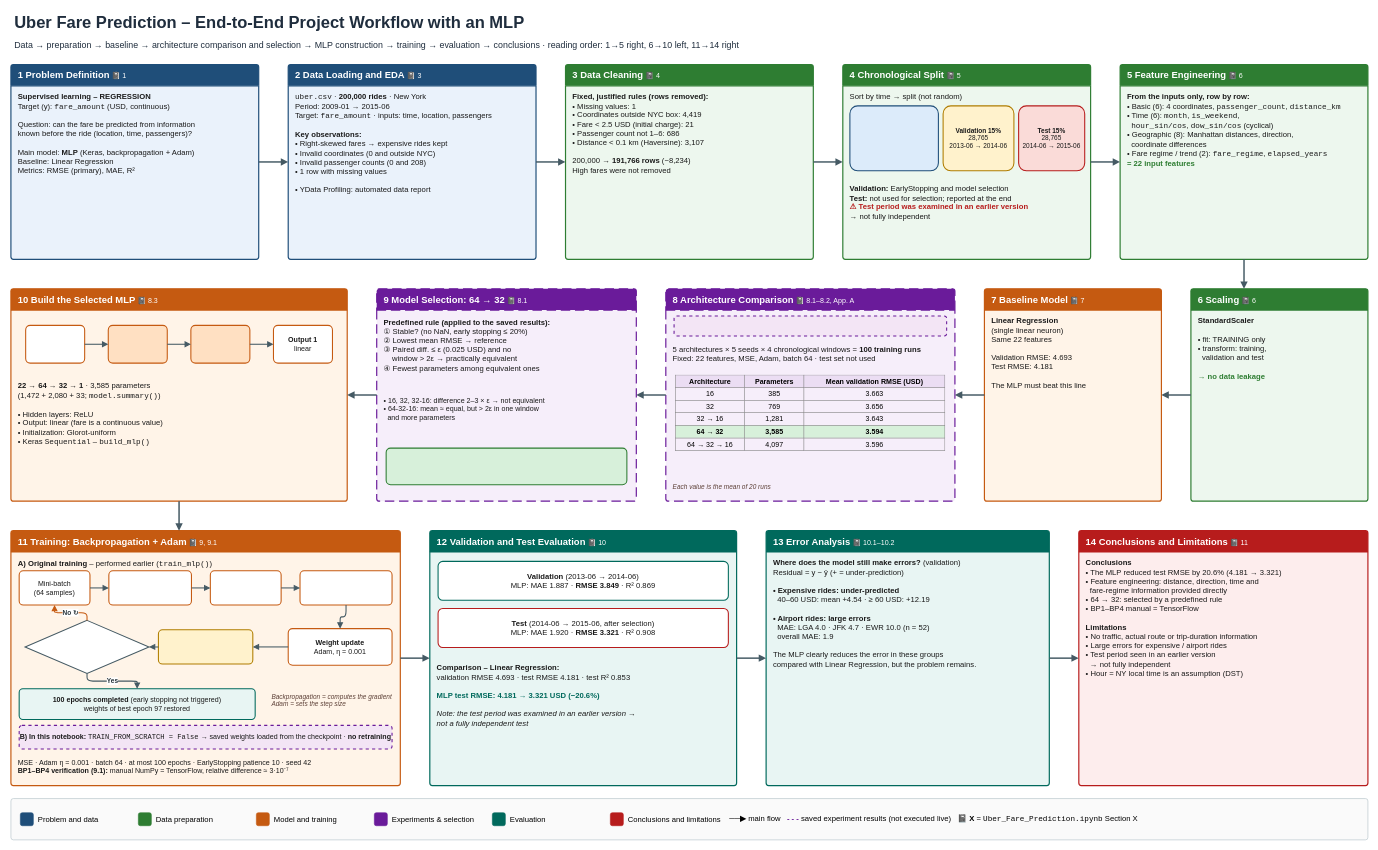
The diagram is 1378 pixels wide and 850 high, and some of its shapes have lost their labels. The centre of each missing label's shape, as x and y in pixels:
"Backpropagation ∂L/∂W (BP1–BP4)" belongs at (345,587).
"Dense 32 ReLU" belongs at (220,344).
"Dense 64 ReLU" belongs at (137,344).
"End of epoch validation val_loss" belongs at (205,646).
"Forward pass ŷ = f(W·x + b)" belongs at (150,587).
"Input 22" belongs at (55,344).
"Loss MSE(y, ŷ)" belongs at (245,587).
"Selected: 64 → 32 lowest mean RMSE + satisfies the rule" belongs at (506,466).
"Stop? patience 10 reached or 100 epochs" belongs at (86,647).
"Training 70% 134,236 2009-01 → 2013-06" belongs at (894,138).
"📁 Saved experiment results – not re-run in the notebook" belongs at (810,325).
